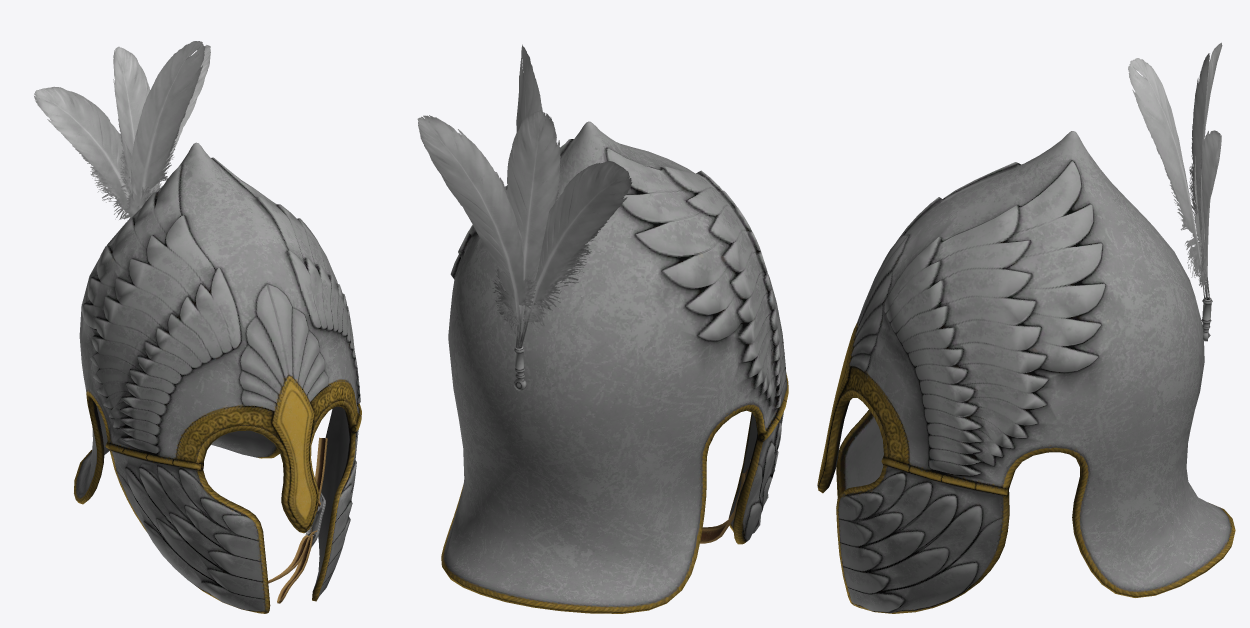
Rendered from pelargirmarine_helmet_3_c.fbx.
3 renders of one model, left to right at view 1: azimuth 30°, elevation 25°; view 2: azimuth 150°, elevation 25°; view 3: azimuth 270°, elevation 25°, orthographic. The views are drawn at different scales.
Visible parts, largest first — view 1: pelargirmarine_helmet_3_c.2, pelargirmarine_helmet_3_c.1, pelargirmarine_helmet_3_c.0; view 2: pelargirmarine_helmet_3_c.2, pelargirmarine_helmet_3_c.1, pelargirmarine_helmet_3_c.0; view 3: pelargirmarine_helmet_3_c.2, pelargirmarine_helmet_3_c.1.
Boxes of the visible parts, <box> form: pelargirmarine_helmet_3_c.2: <box>74,142,361,613</box>; pelargirmarine_helmet_3_c.1: <box>34,41,210,220</box>; pelargirmarine_helmet_3_c.0: <box>268,437,327,603</box>; pelargirmarine_helmet_3_c.2: <box>441,121,788,613</box>; pelargirmarine_helmet_3_c.1: <box>417,44,632,390</box>; pelargirmarine_helmet_3_c.0: <box>700,459,750,543</box>; pelargirmarine_helmet_3_c.2: <box>817,131,1235,613</box>; pelargirmarine_helmet_3_c.1: <box>1128,42,1222,341</box>.
Size of the model in its own units: 0.2317 by 0.2982 by 0.4706.
Materials: 3 (3 with a texture image).
